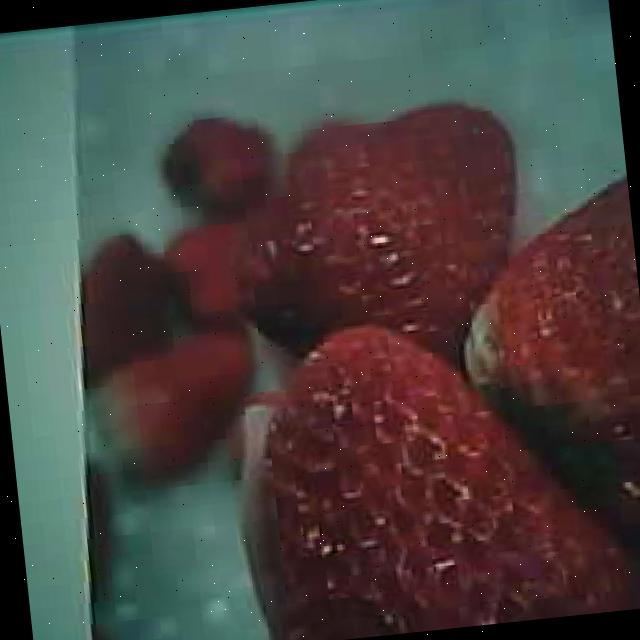strawberry: (220, 309, 634, 640)
